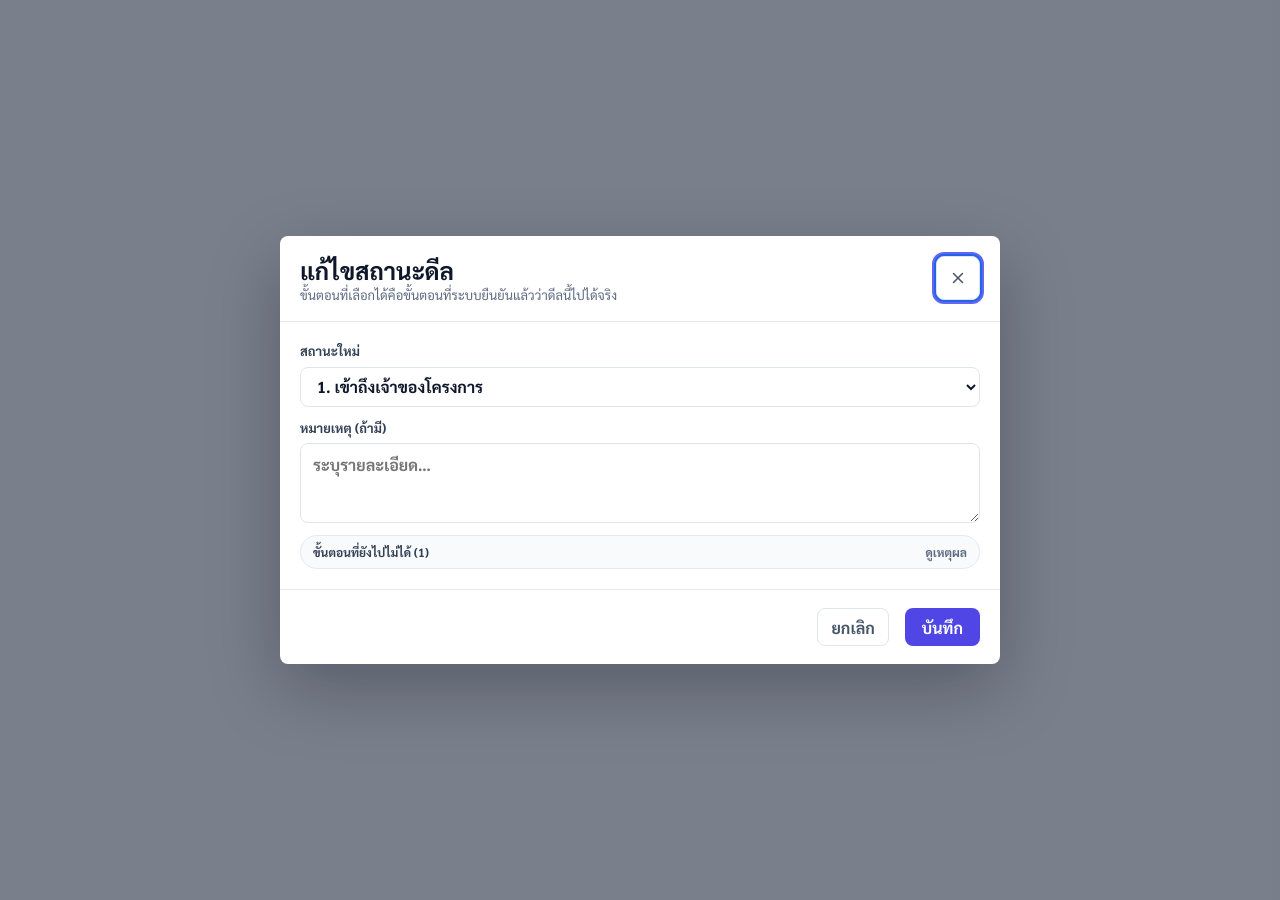
Test: UpdateStageModal renders the backend decision › words the stages by the deal's channel, in the options and the blocked list alike
Step 1. Click the button with test id "update-stage-blocked-toggle" → (366, 552), box x1=301 y1=536 x2=979 y2=568
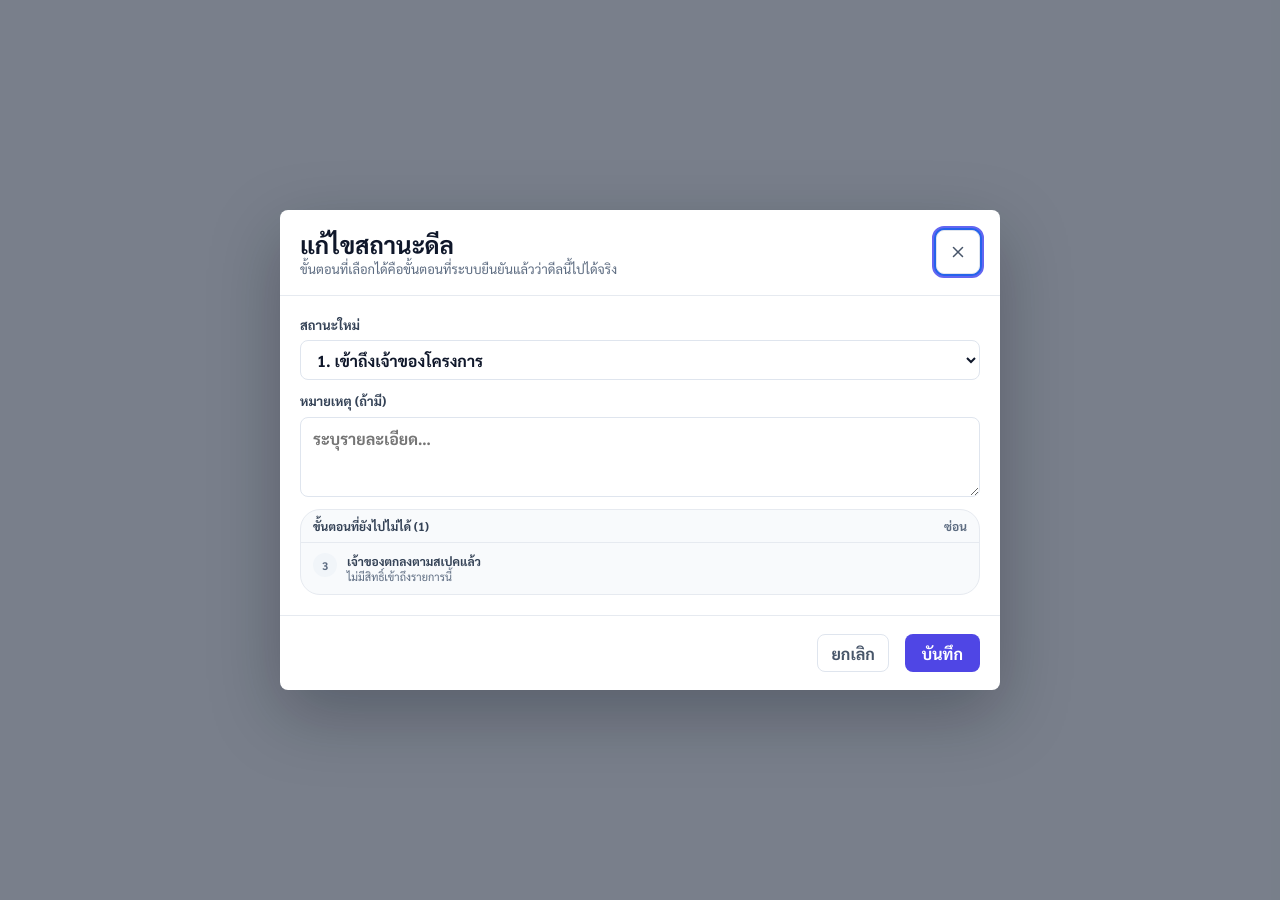
Expected: the text "เจ้าของตกลงตามสเปคแล้ว" is shown, x1=347 y1=553 x2=481 y2=569
